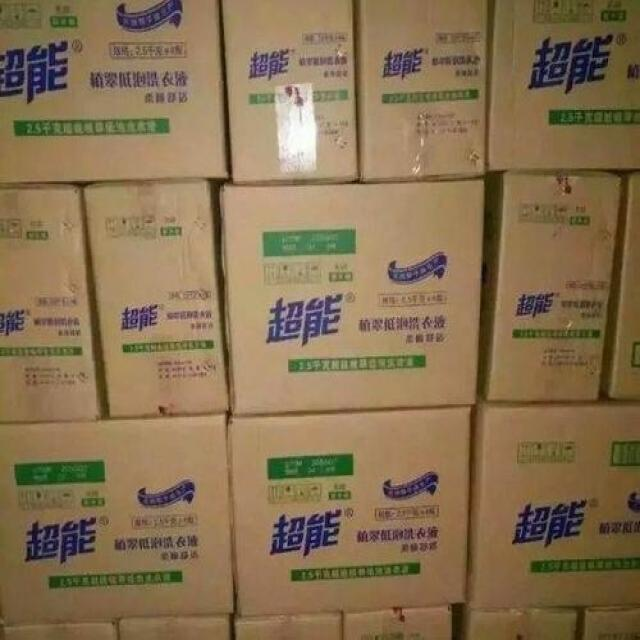box: (219, 178, 486, 416), (227, 405, 472, 617), (0, 411, 236, 624), (466, 392, 640, 610), (86, 180, 229, 417), (479, 171, 622, 401), (486, 0, 640, 171), (0, 182, 108, 423), (221, 0, 360, 185), (355, 0, 488, 182), (599, 169, 640, 400), (453, 602, 577, 640), (342, 604, 452, 640), (234, 612, 343, 640), (119, 614, 234, 640), (1, 618, 119, 640), (577, 608, 640, 640)
